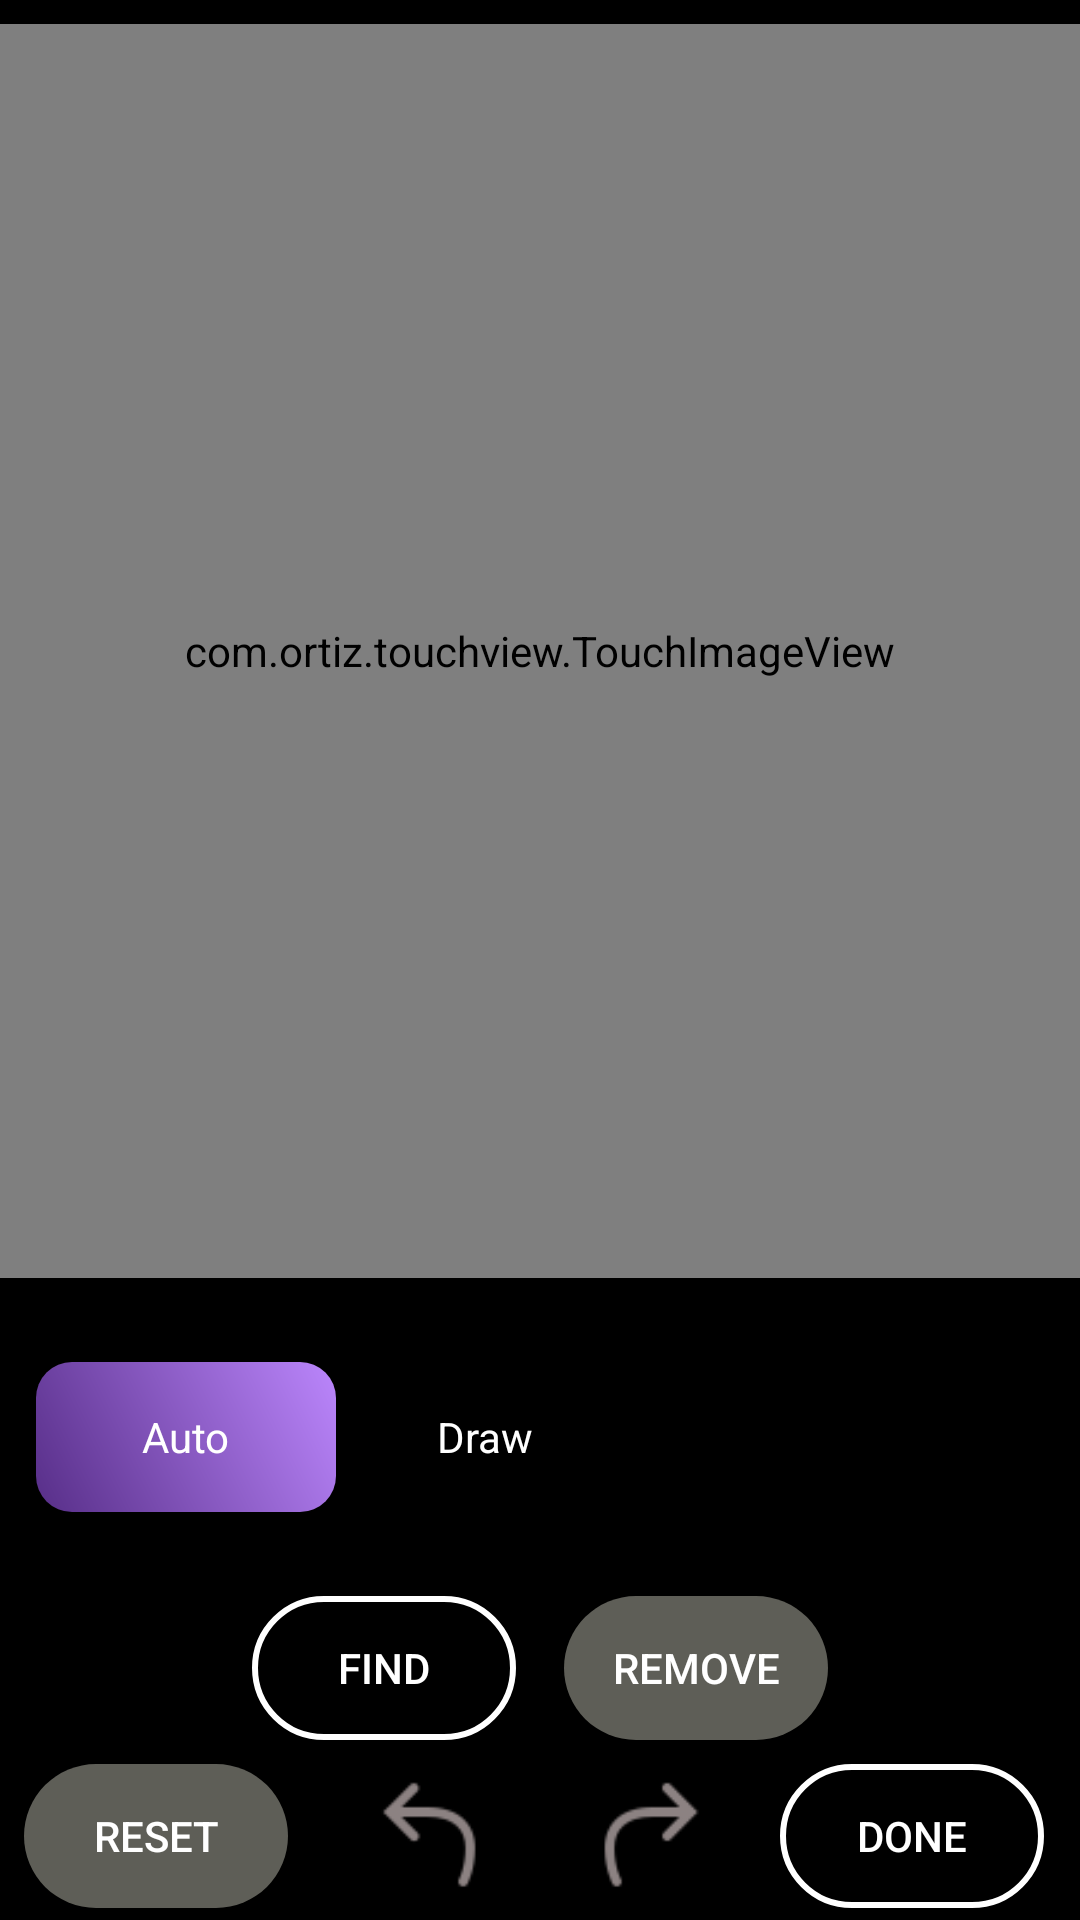

Point at icon controls on the screen. Image size 1080px×1920px, points as (x=x, y=y).
redo unenable: (x=651, y=1834)
undo unenabe: (x=429, y=1834)
